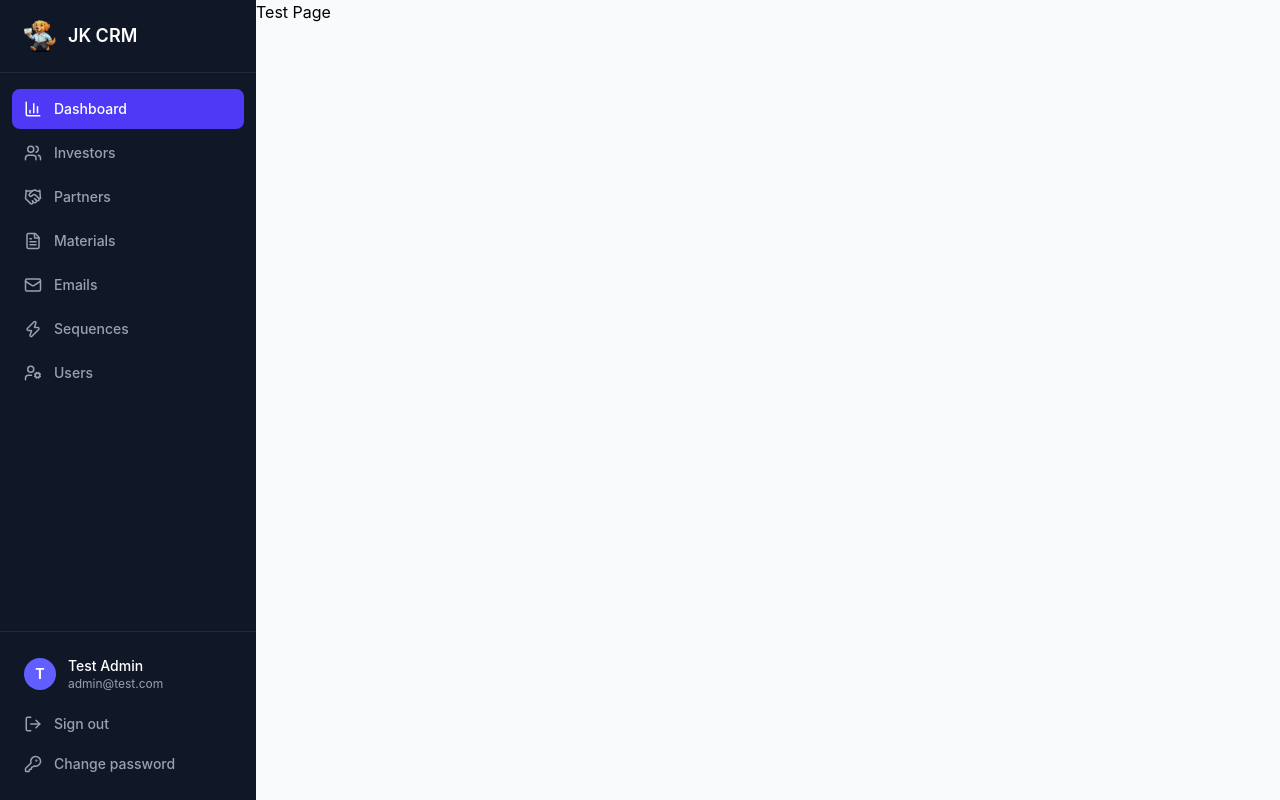
Scenario: AppLayout › shows error when current password is incorrect
Click the button "Change password".
click(128, 764)  # box [12,744,244,784]
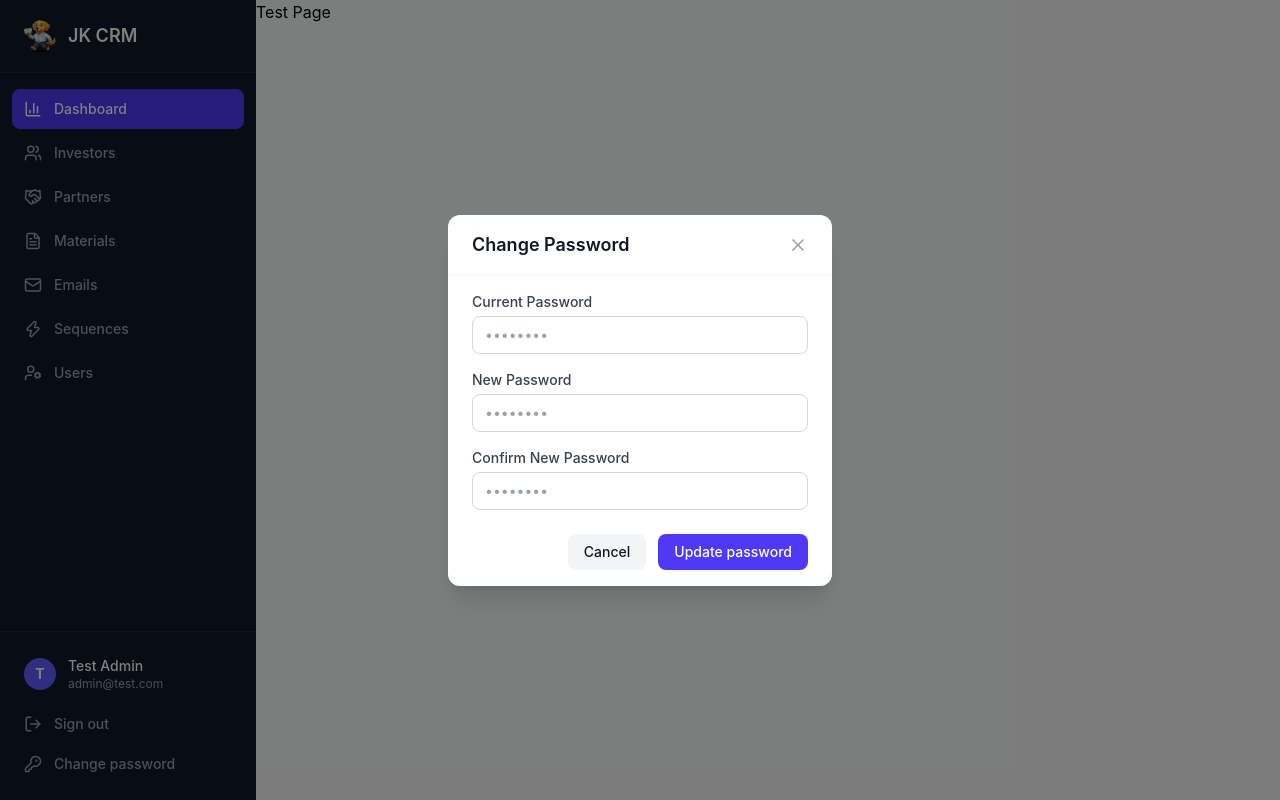
Expected: the password field labelled "Current Password" is shown
Type "WrongPass!" into the password field labelled "Current Password".
click(640, 334); type("WrongPass!")  # box [472,316,808,354]
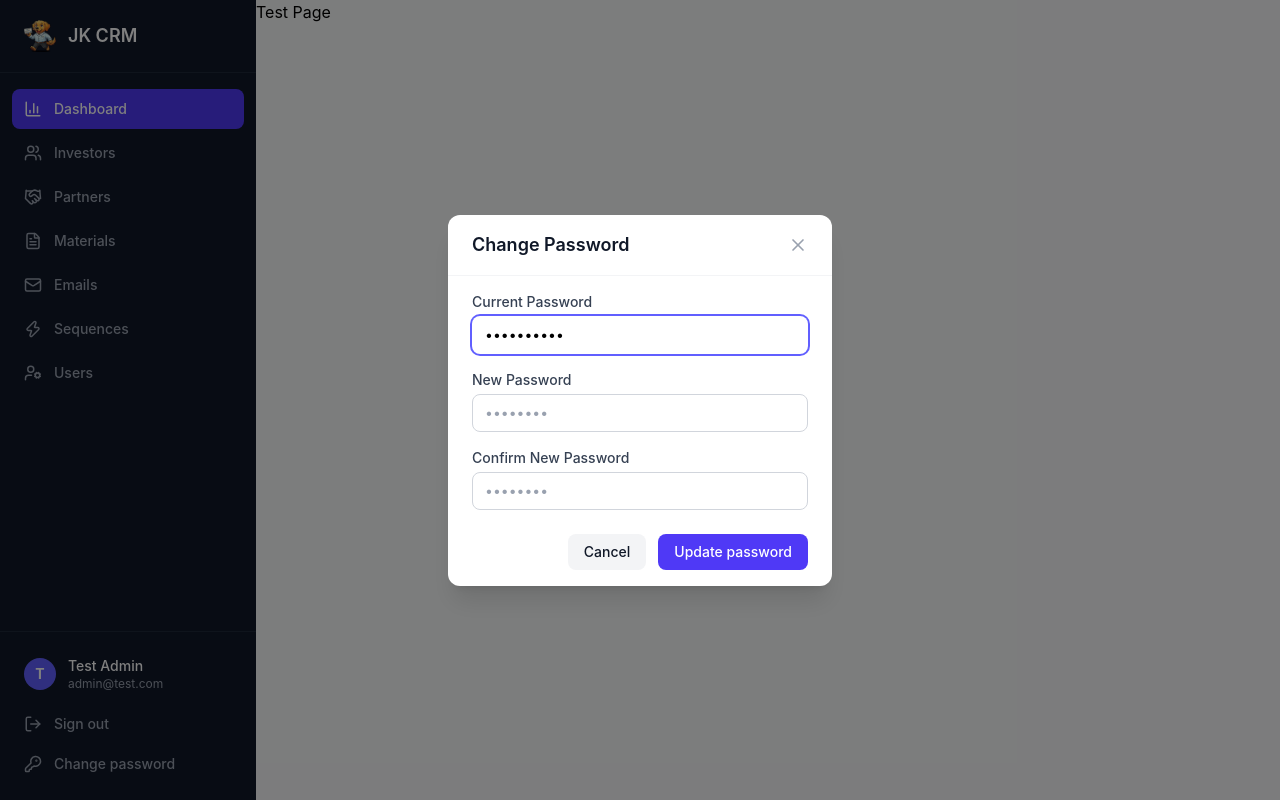
Type "NewPass1!" into the password field labelled "New Password".
click(640, 412); type("NewPass1!")  # box [472,394,808,432]
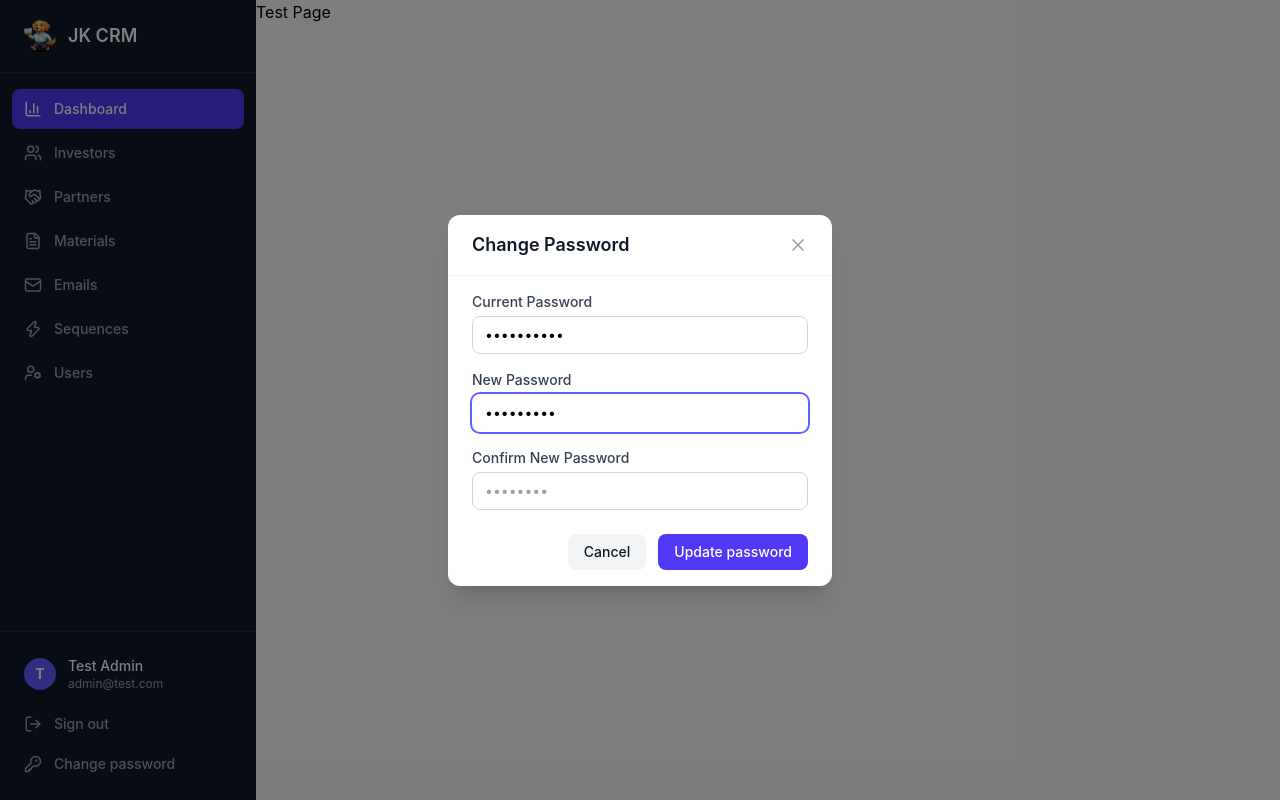
Type "NewPass1!" into the password field labelled "Confirm New Password".
click(640, 490); type("NewPass1!")  # box [472,472,808,510]
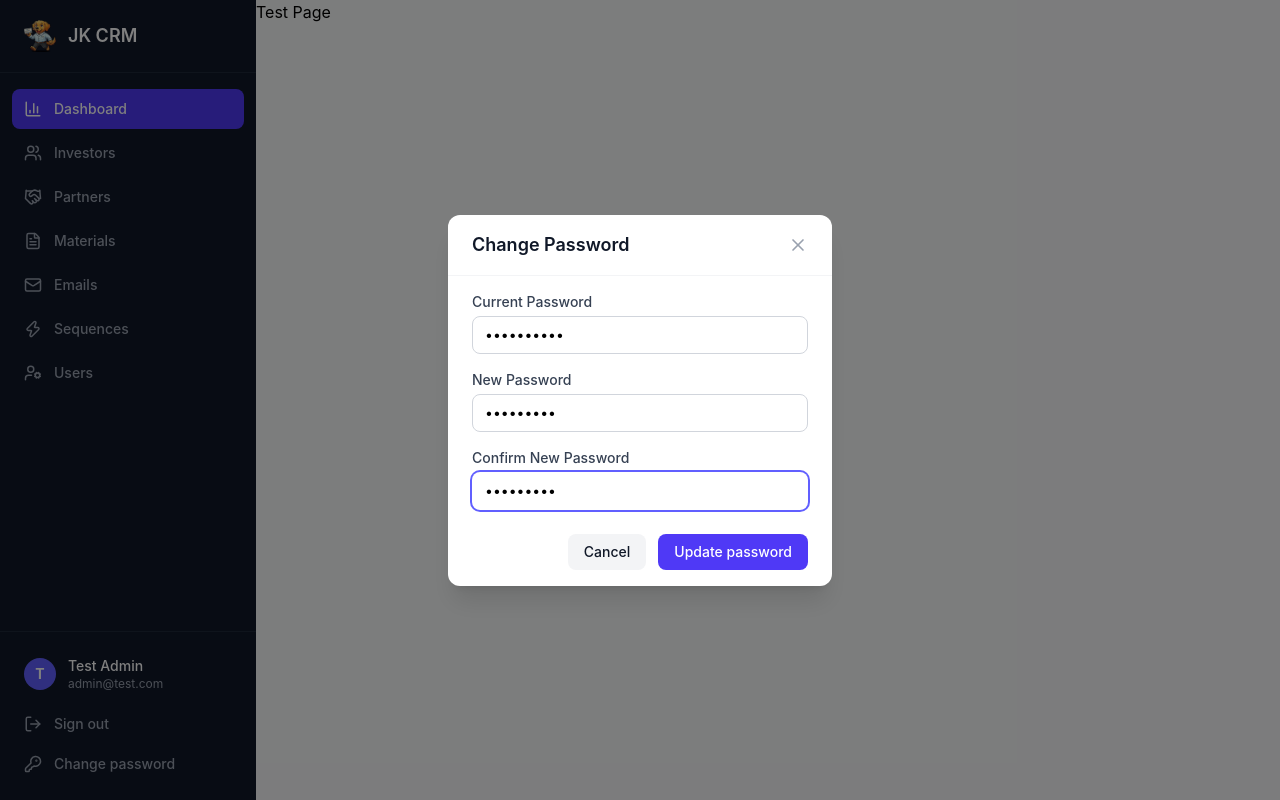
Click the button "Update password".
click(733, 552)  # box [658,534,808,570]
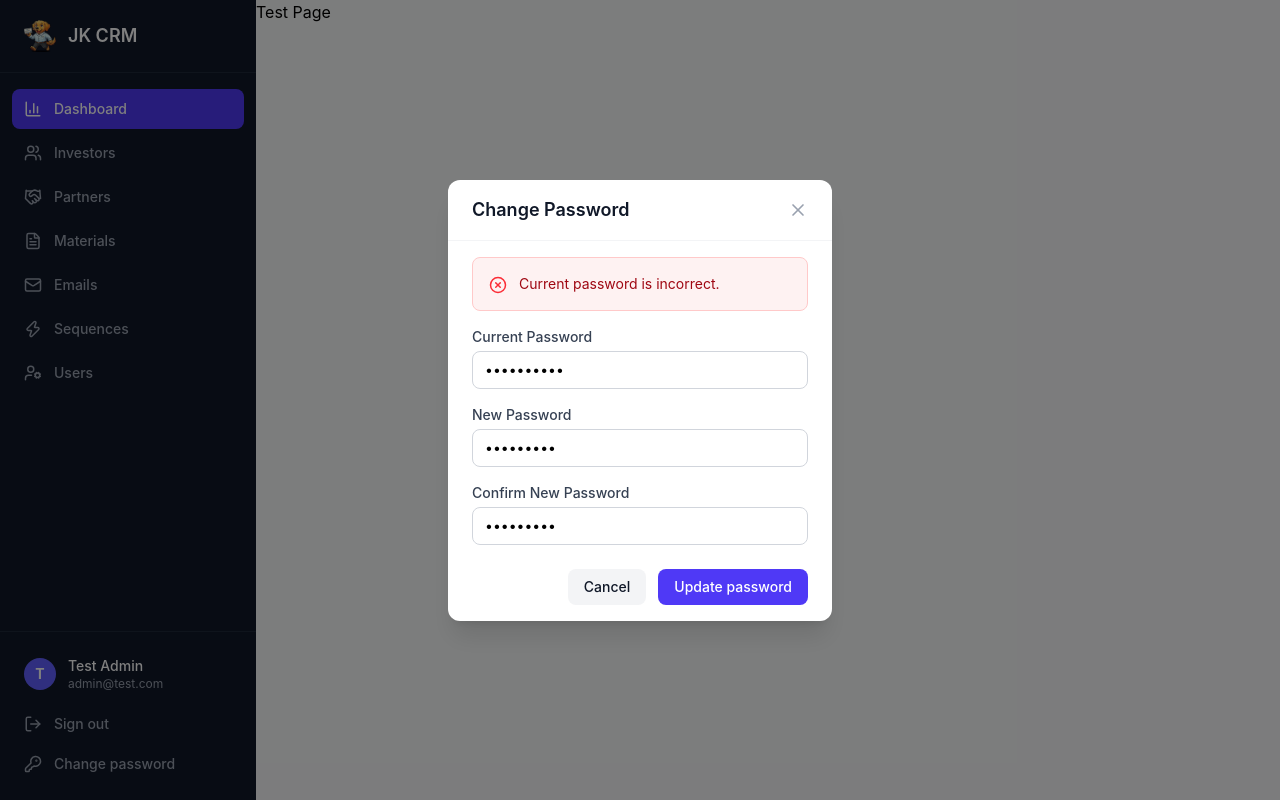
Expected: the text "Current password is incorrect." is shown, [519,274,720,292]
